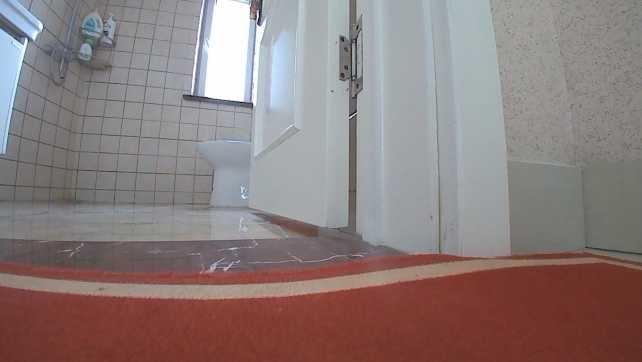door_anno: (244, 0, 353, 230)
toilet: (1, 250, 640, 361), (195, 137, 250, 210)
